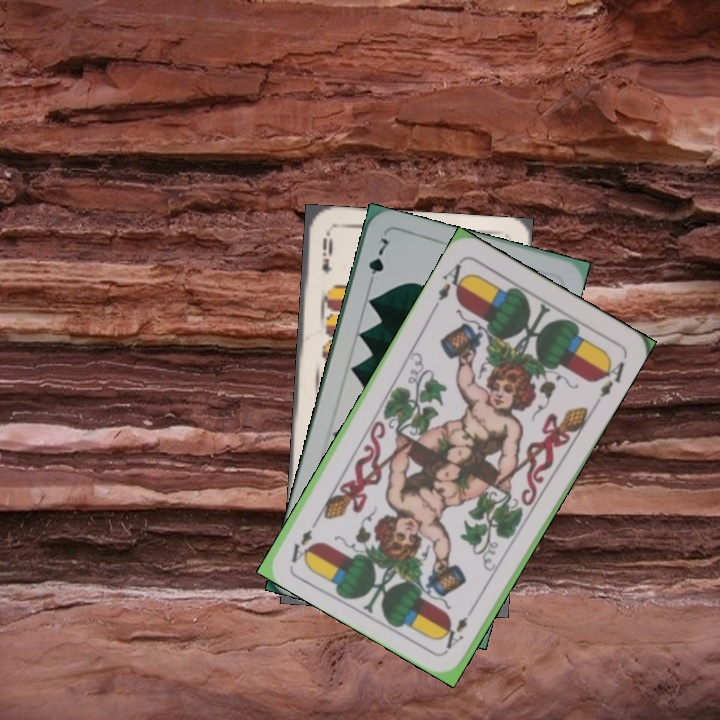E9: (317, 230, 336, 276)
EA: (430, 256, 470, 311), (441, 600, 478, 652)
G7: (364, 233, 391, 290)
